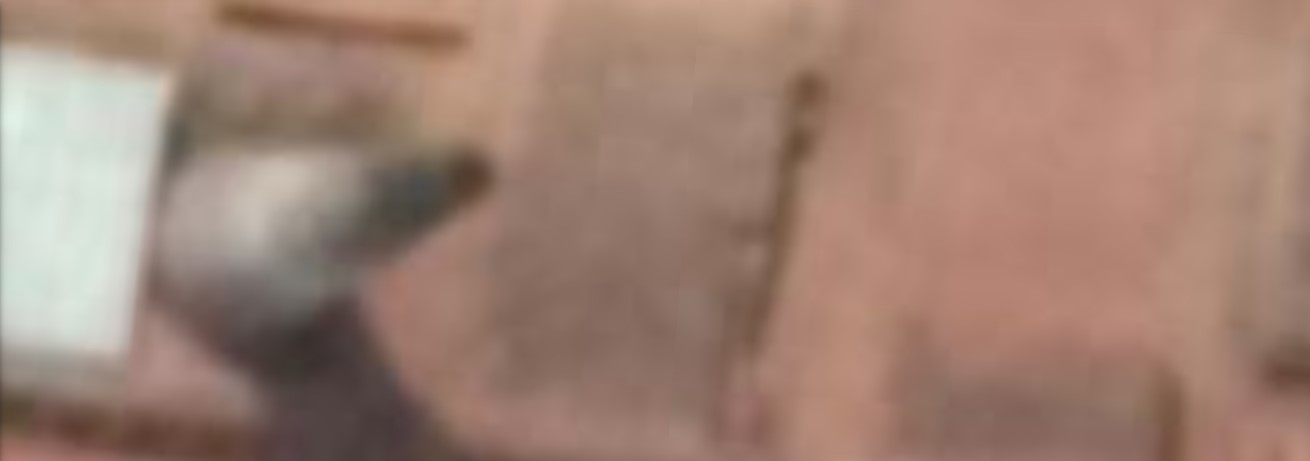kiln: (155, 18, 635, 418)
